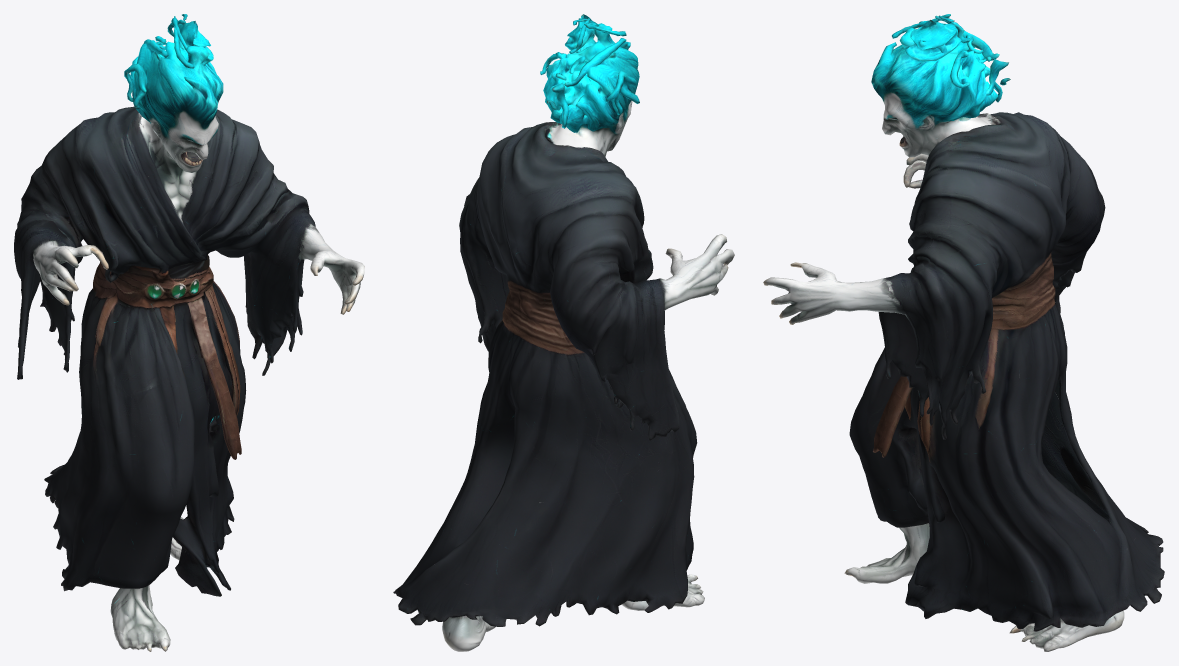
File: hades_v2_draco.glb
3 renders of one model, left to right at view 1: azimuth 30°, elevation 25°; view 2: azimuth 150°, elevation 25°; view 3: azimuth 270°, elevation 25°, orthographic. The views are drawn at different scales.
Bounding box in the file's own units: 0.8806 × 1.91 × 1.16.
1 material, 1 textured.
